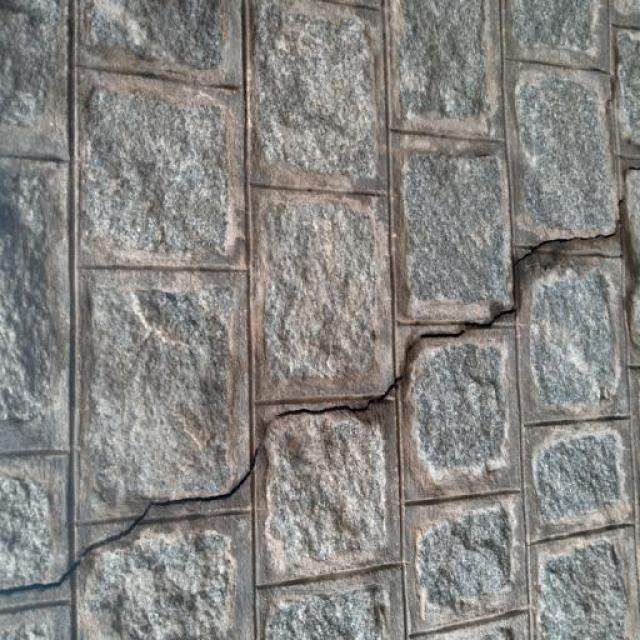stepped_cracking_on_brick: (2, 159, 639, 607)
